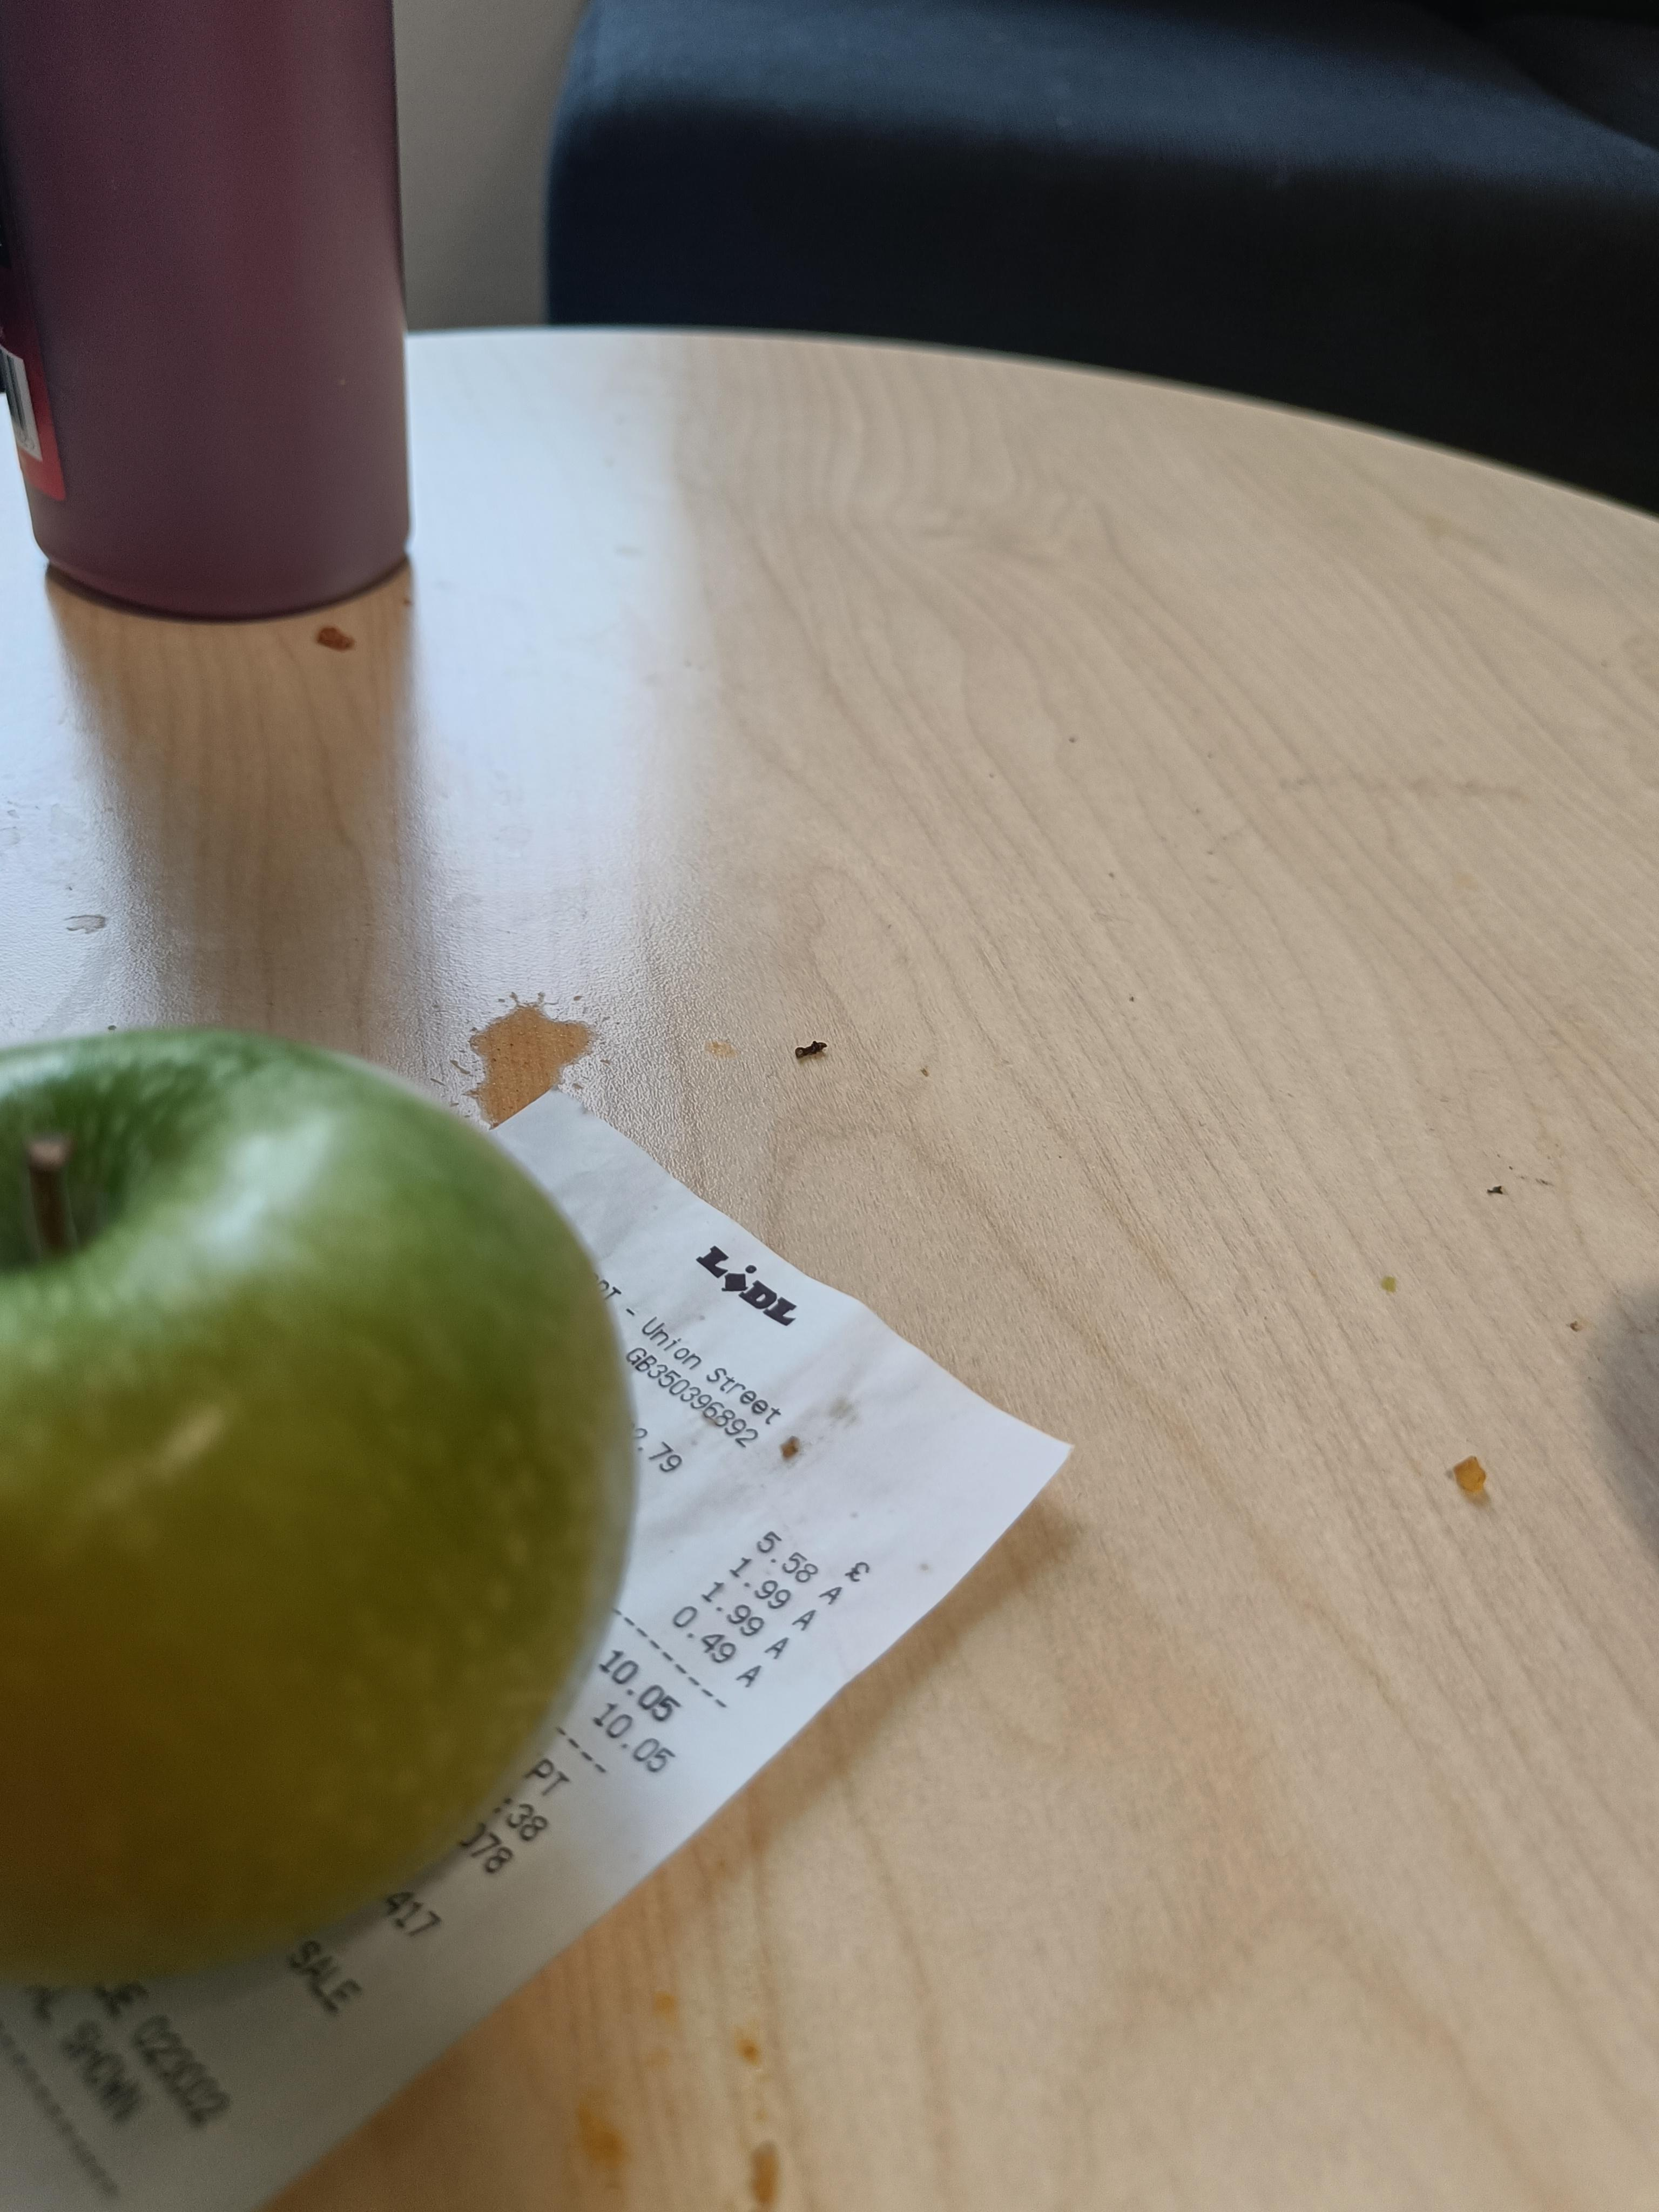Apple: (0, 1021, 671, 1996)
